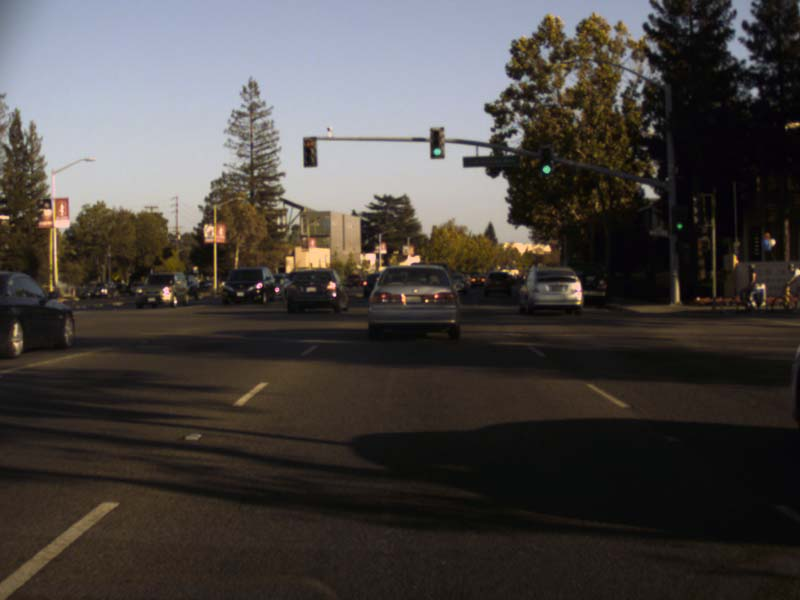Green: (430, 126, 445, 157), (540, 145, 552, 172), (673, 207, 687, 230)
Red: (302, 137, 317, 167)
